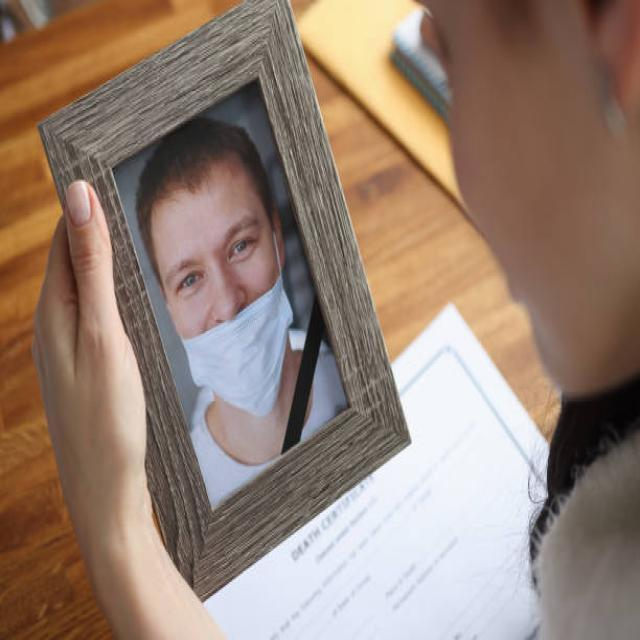hairnet: (177, 276, 301, 415)
